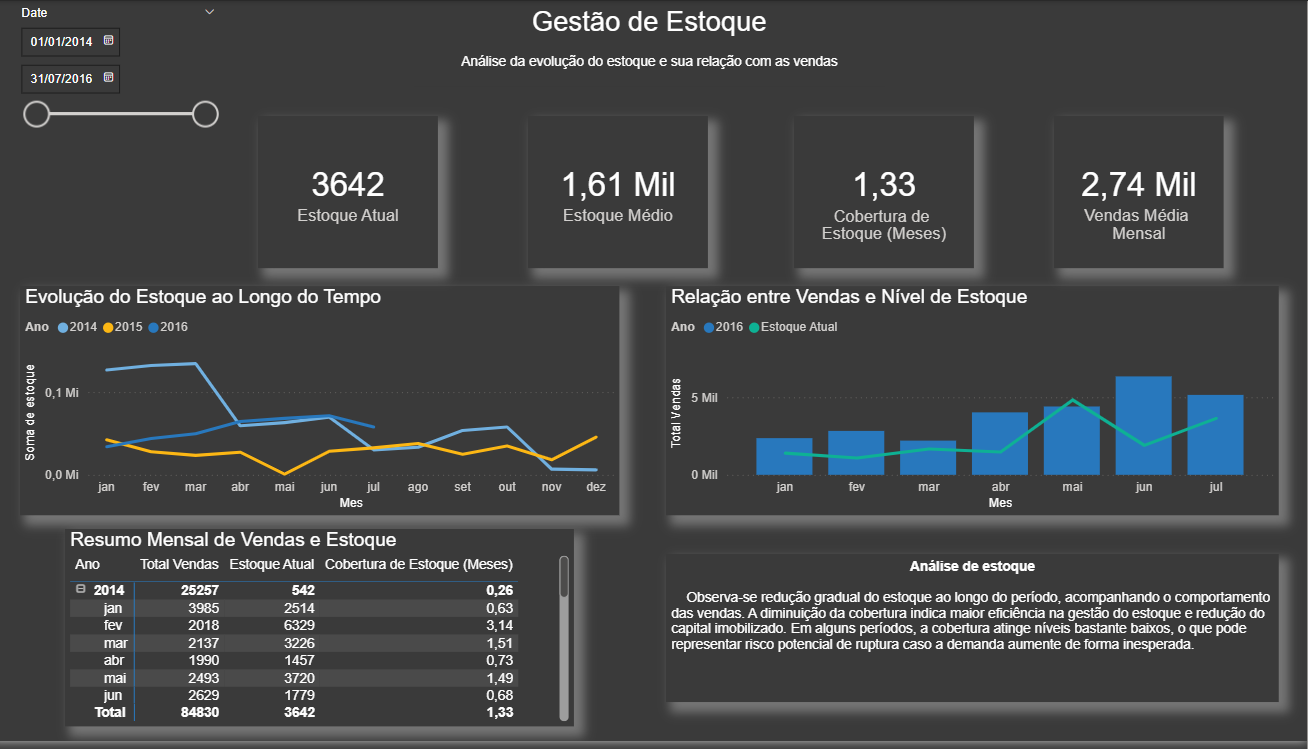

Layout of this report page (visuals, bound fields, positions):
{"tool":"powerbi","page":{"name":"Estoque","canvas":[1280,720],"ordinal":2},"visuals":[{"type":"lineStackedColumnComboChart","title":"Relação entre Vendas e Nível de Estoque","fields":{"Category":["Tabela Calendario.Mes"],"Y2":["Retail Sales Forecasting.Estoque Atual"],"Series":["Tabela Calendario.Date.Variation.Hierarquia de datas.Ano"],"Y":["Retail Sales Forecasting.Total Vendas"]},"box":[656.3,277.5,596.1,222.6],"z":0},{"type":"textbox","box":[411.2,0,457.9,82.6],"z":1000},{"type":"card","fields":{"Values":["Avg(Retail Sales Forecasting.estoque)"]},"box":[522.5,112.2,175.1,148.1],"z":2000},{"type":"card","fields":{"Values":["Retail Sales Forecasting.Dias de Cobertura"]},"box":[781.3,112,175.1,148.4],"z":3000},{"type":"lineChart","title":"Evolução do Estoque ao Longo do Tempo","fields":{"Y":["Sum(Retail Sales Forecasting.estoque)"],"Category":["Tabela Calendario.Mes"],"Series":["Tabela Calendario.Ano"]},"box":[27.8,277.5,582.6,222.6],"z":4000},{"type":"pivotTable","title":"Resumo Mensal de Vendas e Estoque","fields":{"Values":["Retail Sales Forecasting.Total Vendas","Retail Sales Forecasting.Estoque Atual","Retail Sales Forecasting.Cobertura de Estoque (Meses)"],"Rows":["Tabela Calendario.Ano","Tabela Calendario.Mes"]},"box":[71.8,513.5,494.7,192.1],"z":5000},{"type":"card","fields":{"Values":["Retail Sales Forecasting.Estoque Atual"]},"box":[259.5,112.2,175.1,148.1],"z":6000},{"type":"card","fields":{"Values":["Retail Sales Forecasting.Vendas Média Mensal"]},"box":[1034.2,112.2,165.2,148.1],"z":7000},{"type":"textbox","box":[656.3,537.8,596.1,143.6],"z":8000},{"type":"slicer","fields":{"Values":["Tabela Calendario.Date"]},"box":[16.2,0,213.7,126.6],"z":9000}]}

Visuals, with their boxes in screenshot pixels (x1, y1, x2, y2), scaled from the page's 1280x720 canvas onto the 1308x749 screenshot:
"Relação entre Vendas e Nível de Estoque" lineStackedColumnComboChart: (left=671, top=289, right=1280, bottom=520)
textbox: (left=420, top=0, right=888, bottom=86)
card - Avg(Retail Sales Forecasting.estoque): (left=534, top=117, right=713, bottom=271)
card - Retail Sales Forecasting.Dias de Cobertura: (left=798, top=117, right=977, bottom=271)
"Evolução do Estoque ao Longo do Tempo" lineChart: (left=28, top=289, right=624, bottom=520)
"Resumo Mensal de Vendas e Estoque" pivotTable: (left=73, top=534, right=579, bottom=734)
card - Retail Sales Forecasting.Estoque Atual: (left=265, top=117, right=444, bottom=271)
card - Retail Sales Forecasting.Vendas Média Mensal: (left=1057, top=117, right=1226, bottom=271)
textbox: (left=671, top=559, right=1280, bottom=709)
slicer - Tabela Calendario.Date: (left=17, top=0, right=235, bottom=132)
